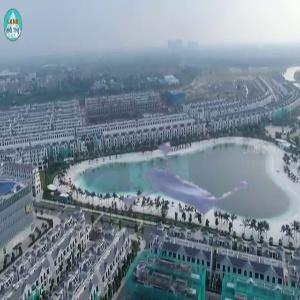drone: (105, 103, 273, 271)
